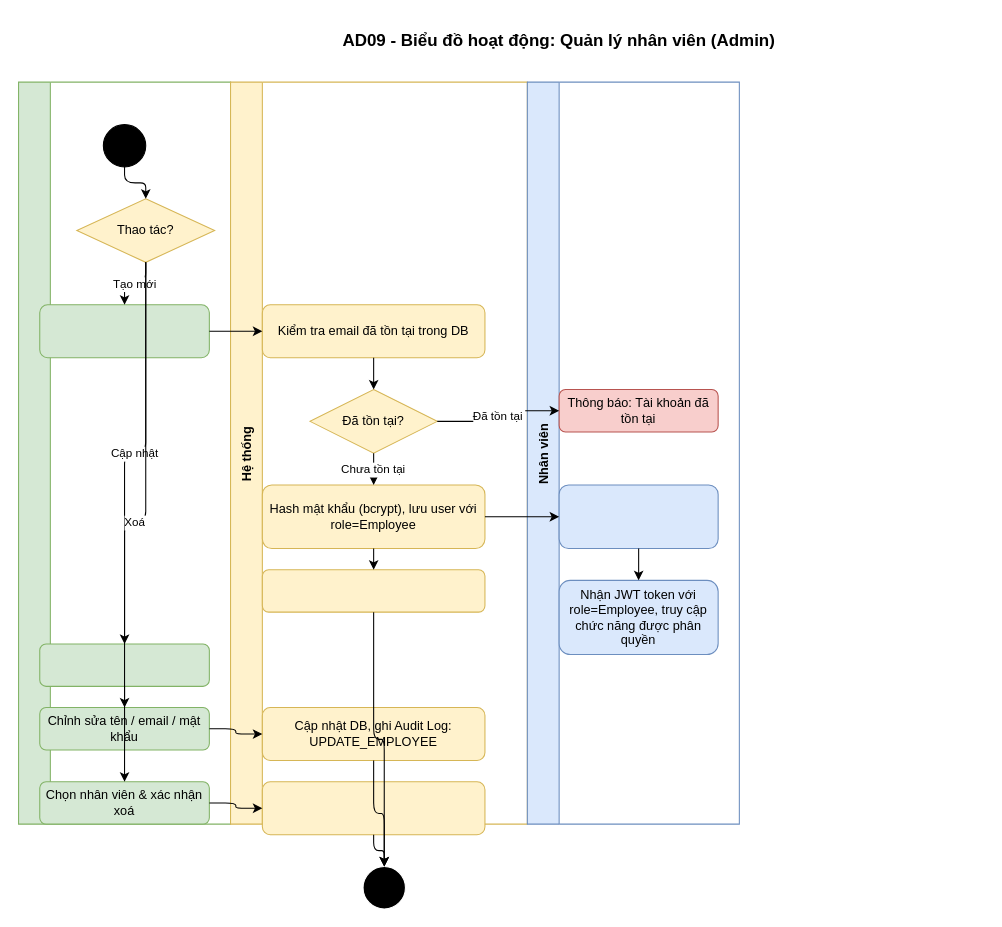
Some shapes in this 1002 by 927 pixel diagram are drawn without their labels. Here are the shapes that lost their labels. From the top down, the box of each, then its label:
(39, 304, 209, 358): Nhập tên, email, mật khẩu nhân viên
(17, 81, 231, 824): Admin (Super)
(558, 484, 718, 549): Nhân viên đăng nhập bằng email/mật khẩu
(261, 569, 485, 612): Ghi Audit Log: CREATE_EMPLOYEE
(39, 643, 209, 686): Chọn nhân viên cần cập nhật
(261, 781, 485, 835): Xoá user khỏi DB, ghi Audit Log: DELETE_USER
